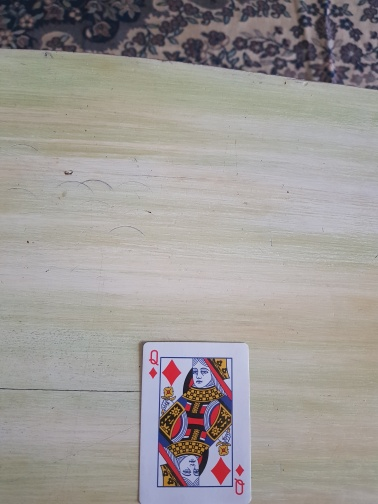queen: (138, 340, 253, 504)
